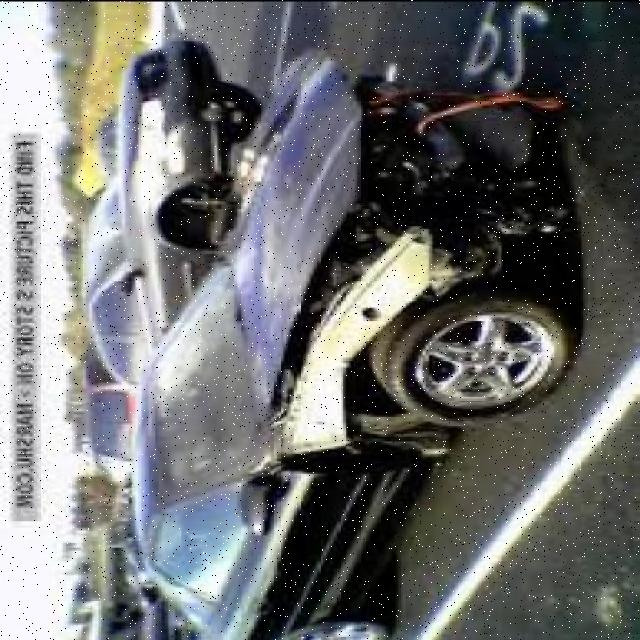damage: (271, 54, 567, 470)
